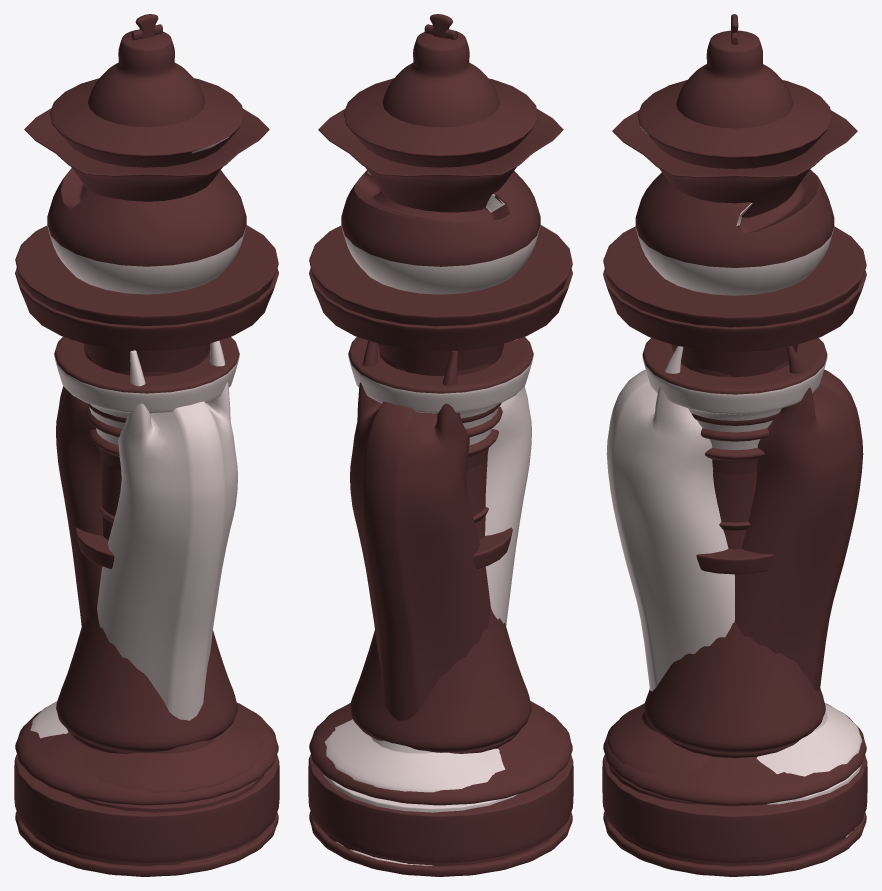
The model's file is pieces.glb.
3 renders of one model, left to right at view 1: azimuth 30°, elevation 25°; view 2: azimuth 150°, elevation 25°; view 3: azimuth 270°, elevation 25°, orthographic.
Visible parts, largest first — view 1: b_q_body, b_k_body, w_n_body, b_b_body, b_n_body, w_b_body, b_r_body, b_p_body; view 2: b_q_body, b_k_body, b_n_body, b_b_body, w_n_body, w_b_body, b_r_body, b_p_body; view 3: b_q_body, b_k_body, w_n_body, b_n_body, b_b_body, w_b_body, b_r_body, b_p_body.
Part boxes in pixels (x1,y1,x2,y2): b_q_body: (14,29,279,876); b_k_body: (14,14,279,876); w_n_body: (30,340,237,738); b_b_body: (47,168,246,393); b_n_body: (56,339,264,865); w_b_body: (47,225,246,445); b_r_body: (67,346,209,753); b_p_body: (75,507,114,568); b_q_body: (308,31,573,876); b_k_body: (308,14,573,876); b_n_body: (350,340,557,737); b_b_body: (341,170,540,393); w_n_body: (323,339,531,865); w_b_body: (341,171,540,445); b_r_body: (379,351,520,753); b_p_body: (473,507,512,569); b_q_body: (602,30,867,876); b_k_body: (602,14,867,876); w_n_body: (606,346,862,837); b_n_body: (607,346,863,836); b_b_body: (635,169,834,394); w_b_body: (635,203,834,450); b_r_body: (669,352,800,757); b_p_body: (696,522,773,574).
Size of the model in its own units: 0.6808 by 2.29 by 0.6822.
